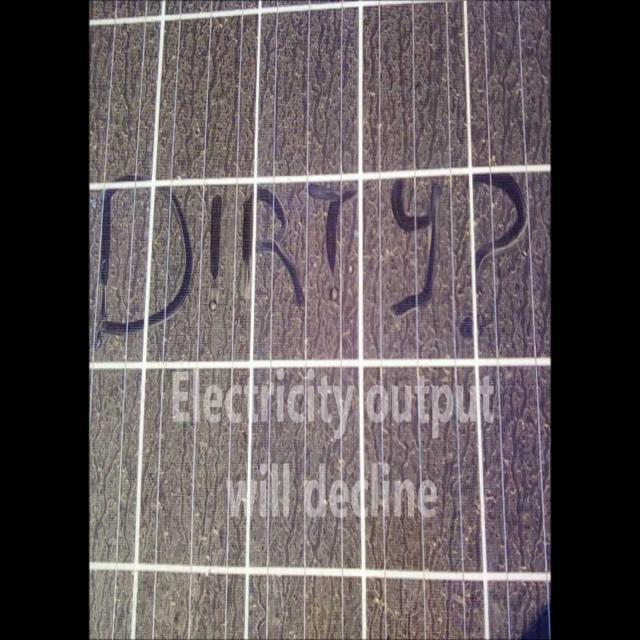Anomaly Solar Panel: (92, 4, 550, 640)
Surface Contaminant: (92, 4, 550, 640)
